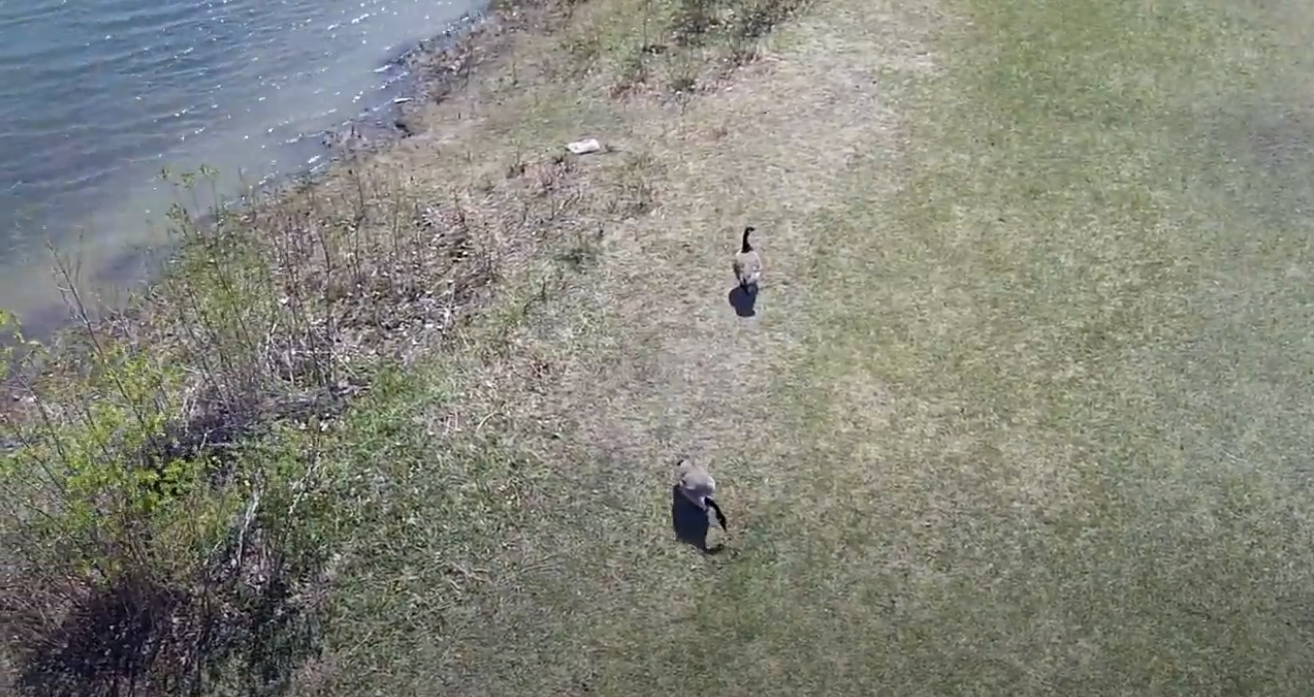goose: (669, 454, 735, 540), (729, 223, 770, 299)
